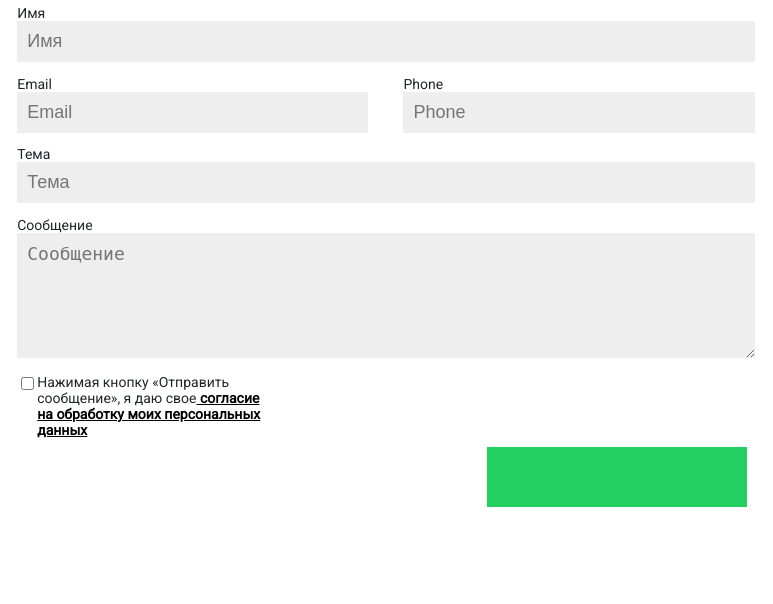
Scenario: count error by send empty form
What coordinates should you click on to do the following:
click the button with test id "sendButton"
I would click on:
 (617, 477)
Its box is [487,447,747,507].
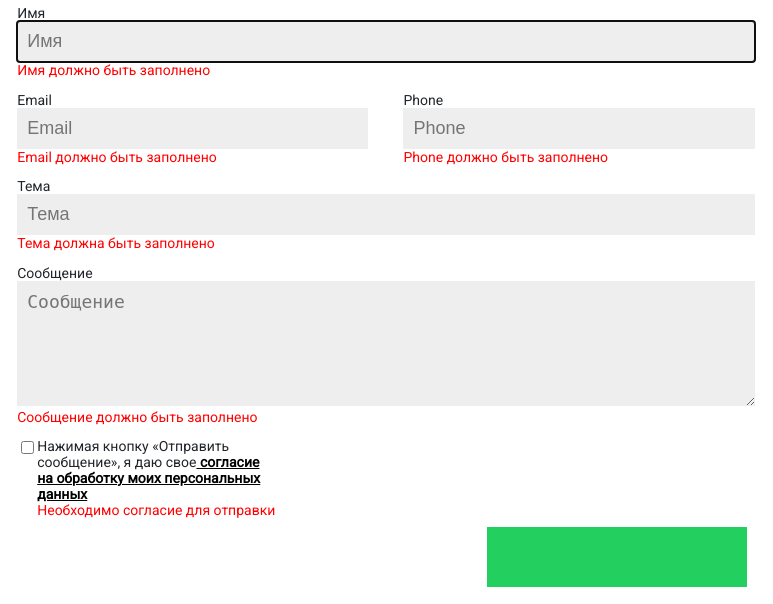
Result: the number of elements with test id "errorMessage" is 6 at [17,62,210,78]; [17,148,217,164]; [404,148,608,164]; [17,235,215,251]; [17,409,258,425]; [37,502,277,518]
